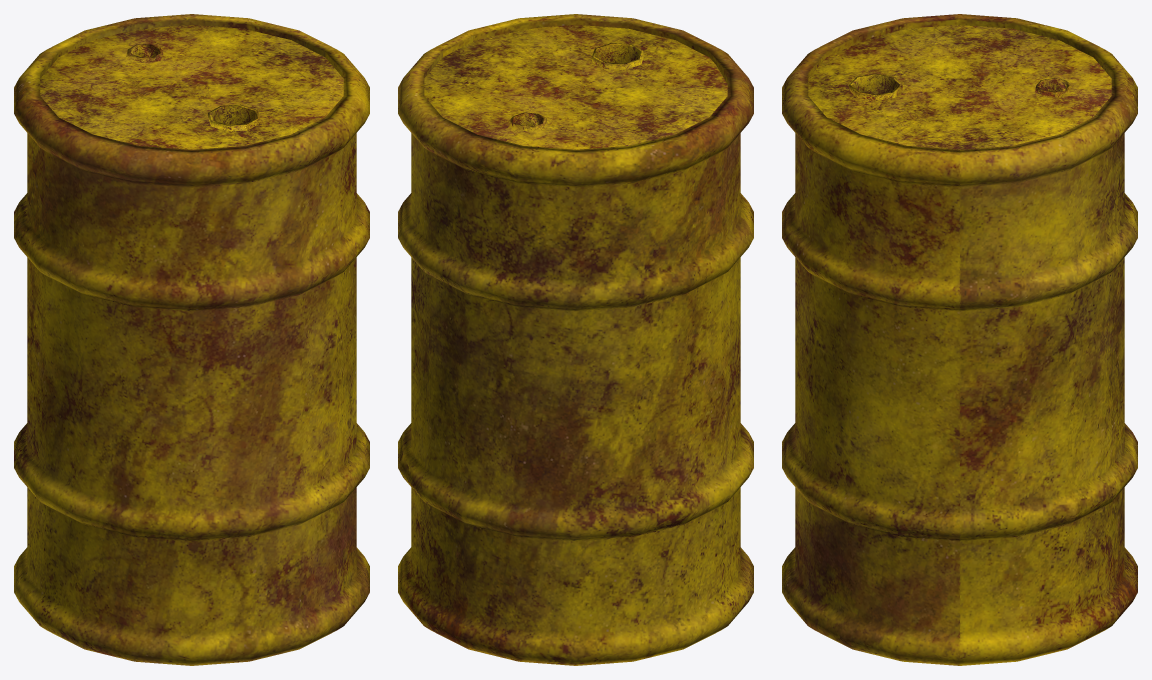
The model's file is ToxicWasteBarrelT.glb.
3 views of the same model, side by side, from view 1: azimuth 30°, elevation 25°; view 2: azimuth 150°, elevation 25°; view 3: azimuth 270°, elevation 25° (orthographic).
Parts seen in each view (by area): view 1: ToxicWasteBarrel2; view 2: ToxicWasteBarrel2; view 3: ToxicWasteBarrel2.
Part boxes in pixels (x1,y1,x2,y2): ToxicWasteBarrel2: (14, 14, 369, 665); ToxicWasteBarrel2: (398, 14, 753, 665); ToxicWasteBarrel2: (782, 14, 1137, 665).
Size of the model in its own units: 0.6799 by 1.06 by 0.6696.
2 materials, 2 textured.
